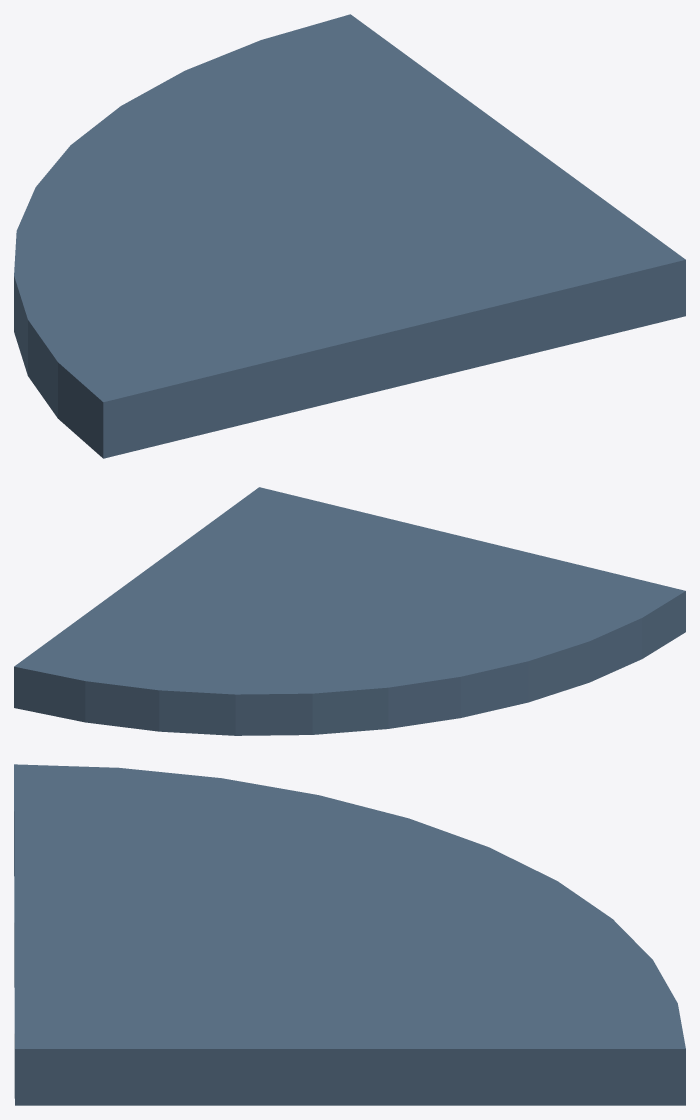
The model's file is SM_Build_GlassBlock.FBX.
3 renders of one model, top to bottom at view 1: azimuth 30°, elevation 25°; view 2: azimuth 150°, elevation 25°; view 3: azimuth 270°, elevation 25°, orthographic. The views are drawn at different scales.
Parts seen in each view (by area): view 1: SM_Build_GlassBlock; view 2: SM_Build_GlassBlock; view 3: SM_Build_GlassBlock.
Boxes of the visible parts, x1,y1,x2,y2 form: SM_Build_GlassBlock: (14,14,685,458); SM_Build_GlassBlock: (14,487,685,735); SM_Build_GlassBlock: (14,764,685,1105).
Size of the model in its own units: 226 by 20.94 by 225.
